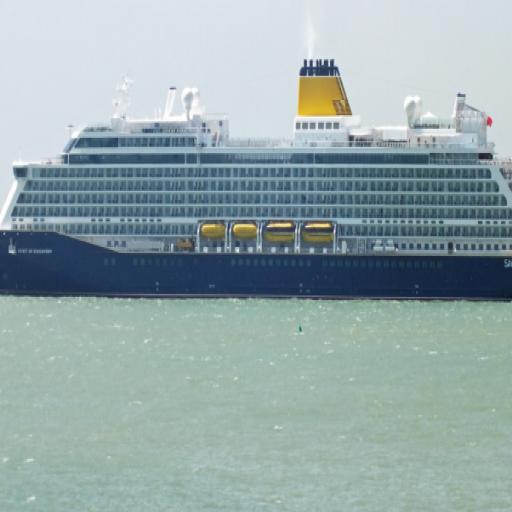cruises: (1, 54, 512, 310)
